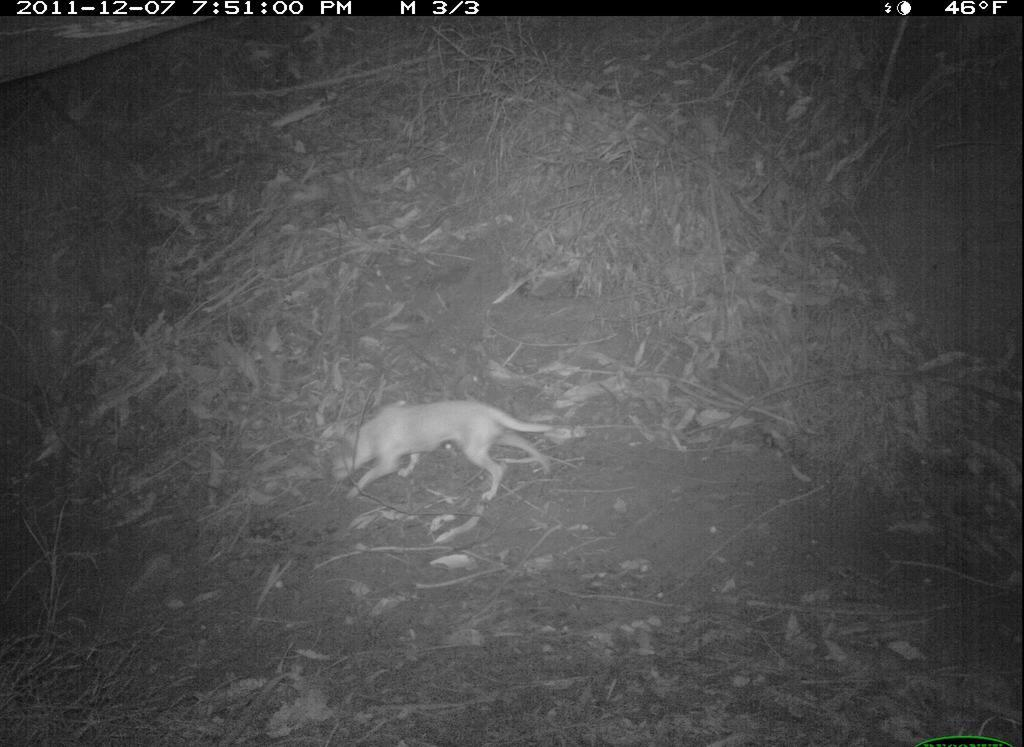dog: (328, 401, 561, 509)
